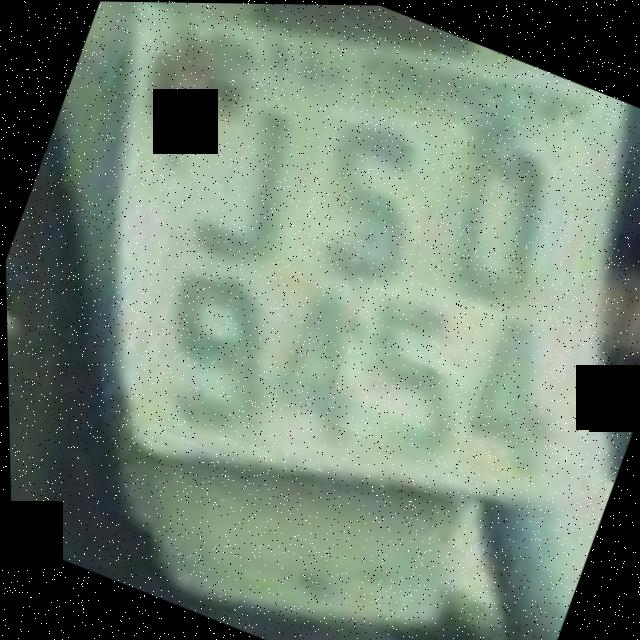4: (415, 282, 612, 498), (230, 254, 422, 465)
5: (318, 263, 512, 471)
9: (102, 228, 325, 468)
J: (150, 68, 341, 291)
S: (276, 90, 458, 298)
